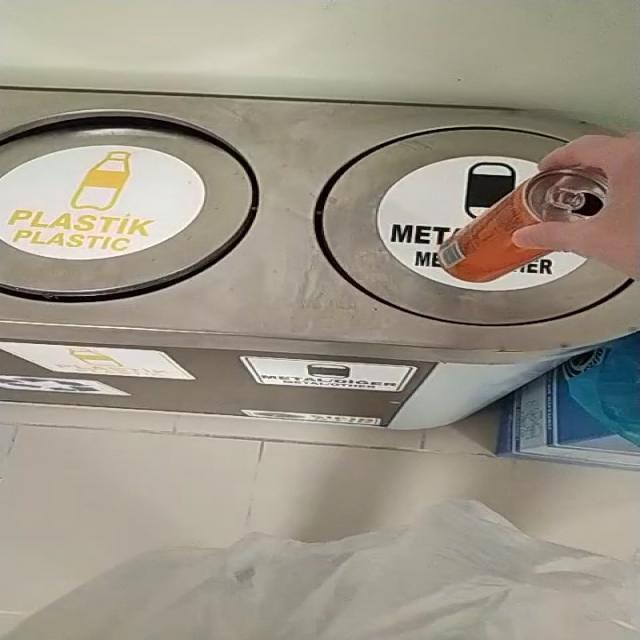Bin: (0, 87, 639, 430)
Metal: (439, 166, 609, 282)
